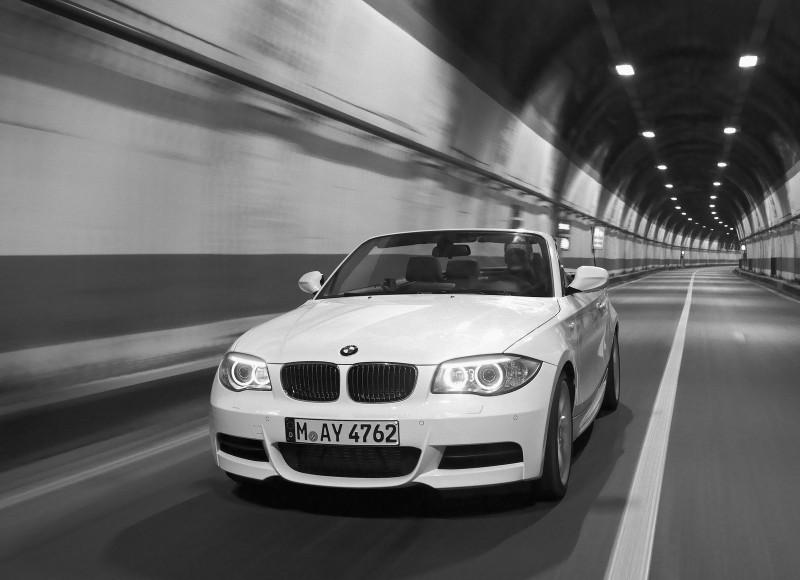car: (204, 227, 627, 511)
